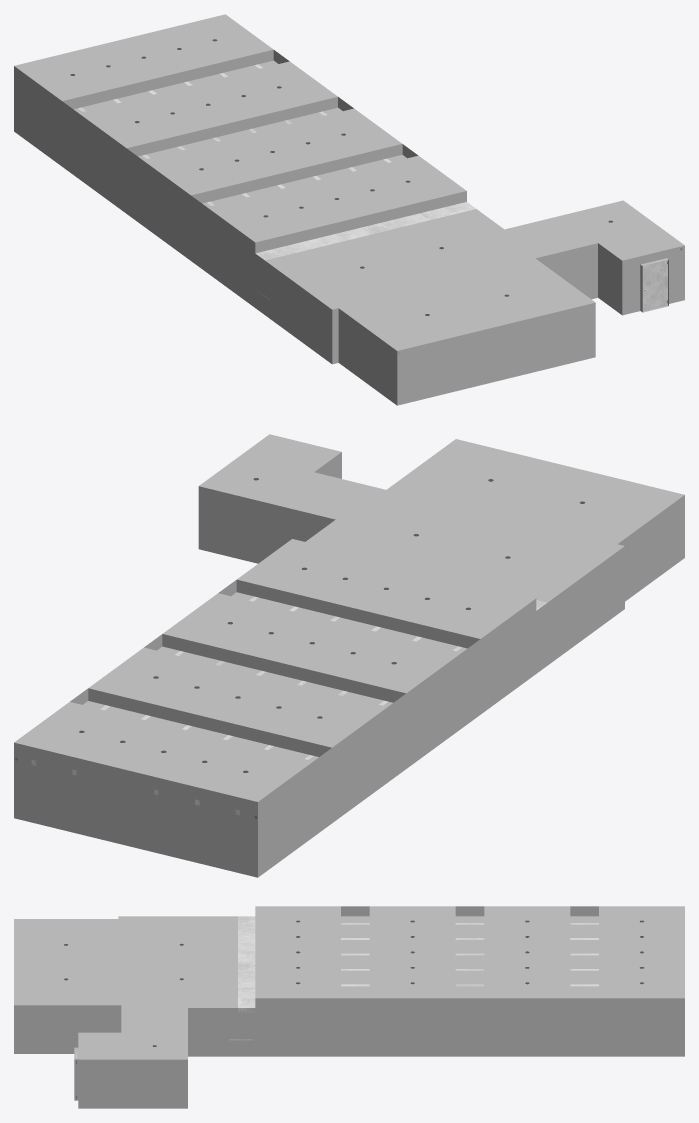
The model's file is shooting_range.fbx.
3 views of the same model, one above another, from view 1: azimuth 30°, elevation 25°; view 2: azimuth 150°, elevation 25°; view 3: azimuth 270°, elevation 25° (orthographic). The views are drawn at different scales.
Visible parts, largest first — view 1: shooting_range, top, door_2; view 2: shooting_range, top; view 3: shooting_range, top.
Part boxes in pixels (x1,y1,x2,y2): shooting_range: (14, 14, 684, 405); top: (78, 64, 475, 260); door_2: (641, 259, 667, 311); shooting_range: (14, 434, 684, 877); top: (31, 596, 546, 815); shooting_range: (14, 906, 684, 1108); top: (238, 916, 598, 1012).
Bounding box in the file's own units: 1581 × 301 × 3122.
